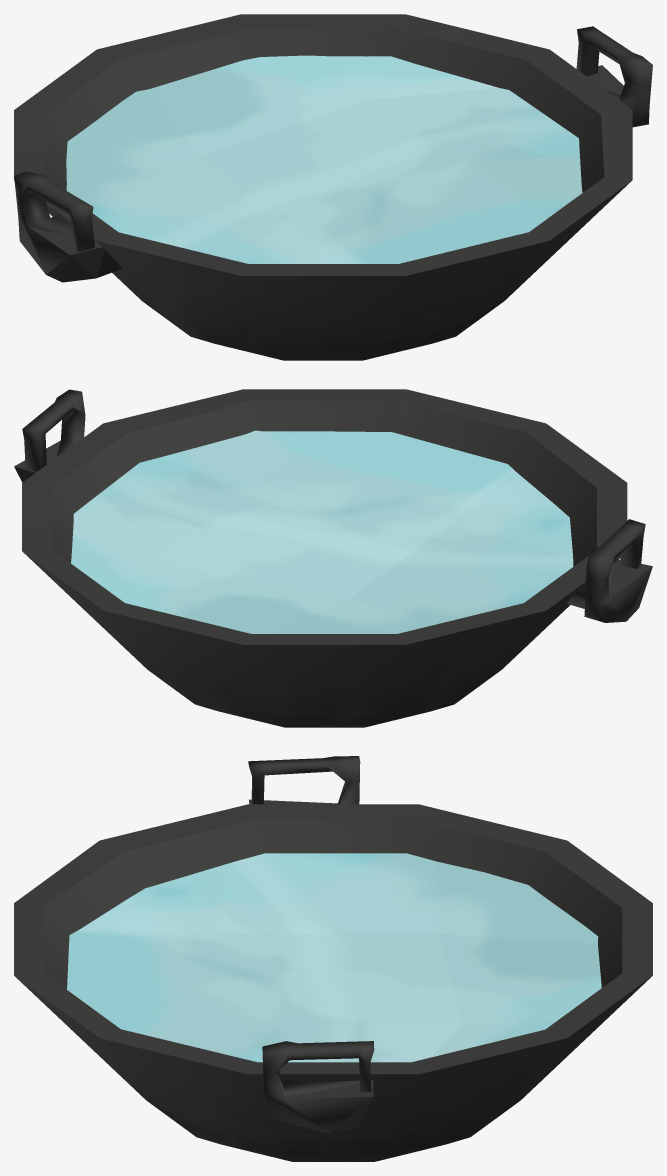
The model's file is Wokpan_Liquid.fbx.
The picture shows the model from 3 angles, top to bottom: view 1: azimuth 30°, elevation 25°; view 2: azimuth 150°, elevation 25°; view 3: azimuth 270°, elevation 25°; orthographic projection. The views are drawn at different scales.
Parts seen in each view (by area): view 1: WokpanFood; view 2: WokpanFood; view 3: WokpanFood.
Boxes of the visible parts, left/top/right/bottom form: WokpanFood: left=14, top=14, right=652, bottom=360; WokpanFood: left=14, top=389, right=652, bottom=727; WokpanFood: left=14, top=756, right=652, bottom=1161.
Bounding box in the file's own units: 62.42 × 18.77 × 56.2.
